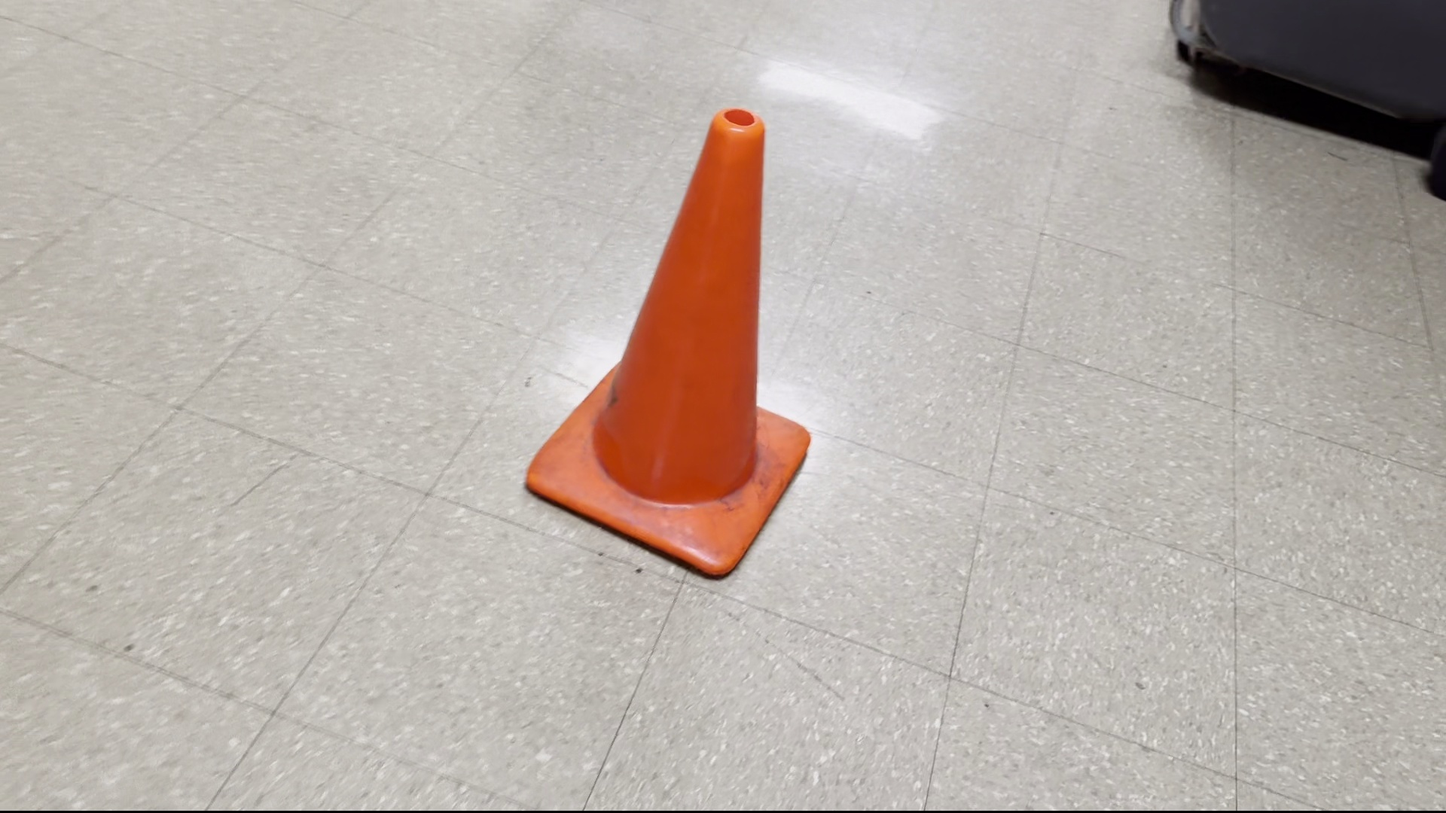traffic_cone: (524, 106, 812, 580)
